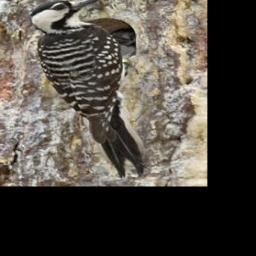Woodpecker: (28, 0, 149, 179)
